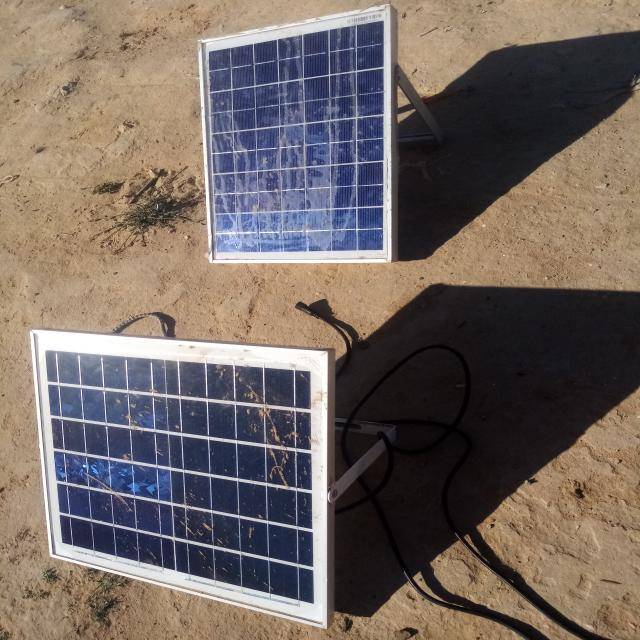faulty: (35, 329, 328, 628), (199, 5, 394, 260)
